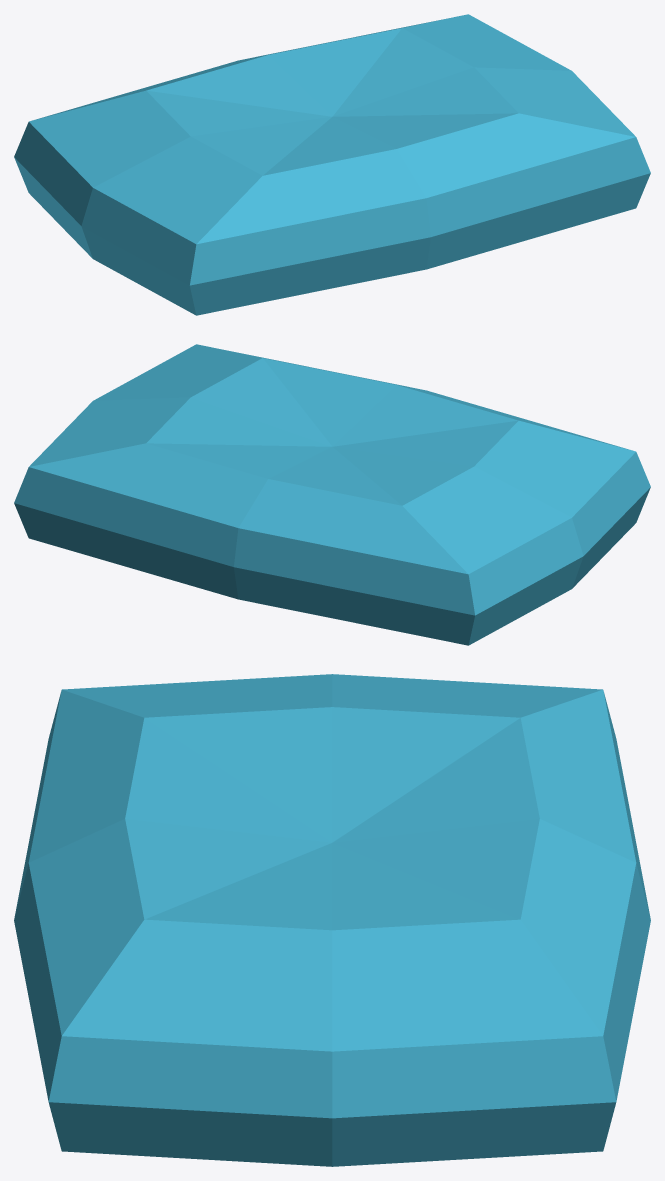
The model's file is Itr_Bed_Pillow_07.FBX.
3 views of the same model, one above another, from view 1: azimuth 30°, elevation 25°; view 2: azimuth 150°, elevation 25°; view 3: azimuth 270°, elevation 25° (orthographic). The views are drawn at different scales.
Visible parts, largest first — view 1: Itr_Bed_Pillow_07; view 2: Itr_Bed_Pillow_07; view 3: Itr_Bed_Pillow_07.
Boxes of the visible parts, left/top/right/bottom form: Itr_Bed_Pillow_07: left=14, top=14, right=650, bottom=315; Itr_Bed_Pillow_07: left=14, top=344, right=650, bottom=645; Itr_Bed_Pillow_07: left=14, top=674, right=650, bottom=1166.
Bounding box in the file's own units: 21.39 × 4.02 × 14.55.
